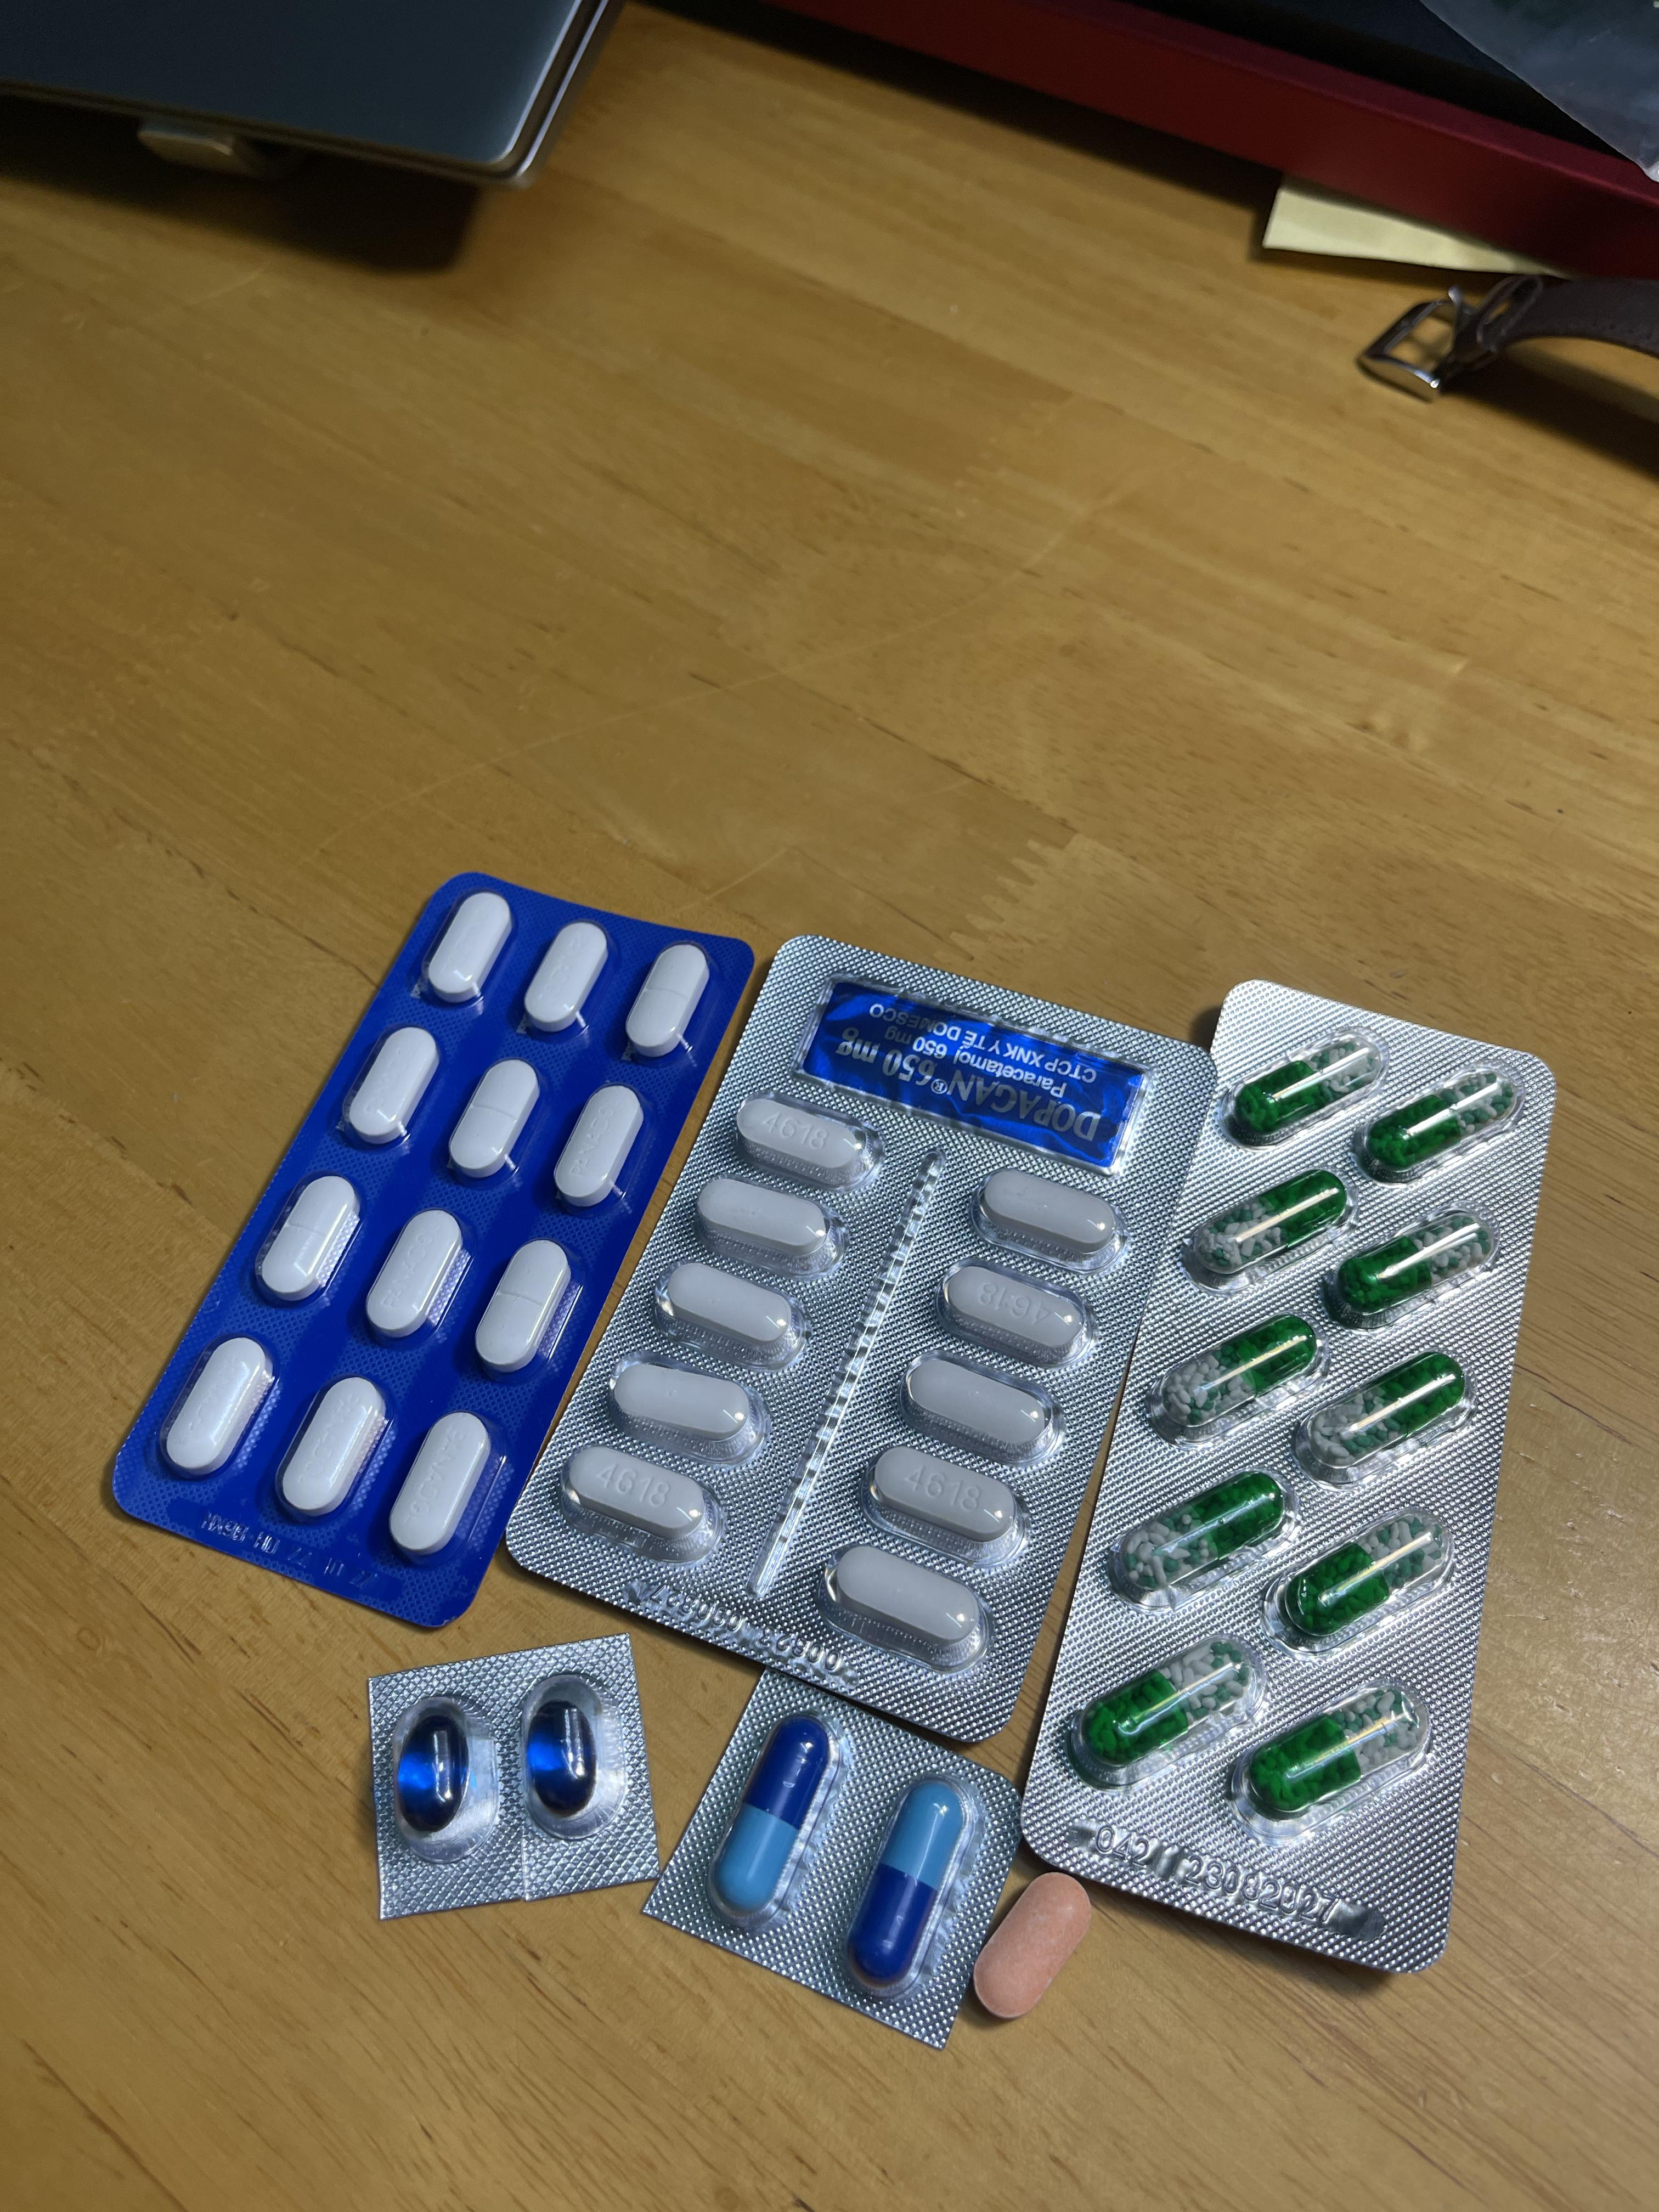Lincomyxin_500mg: (526, 1695, 599, 1813), (397, 1716, 469, 1829)
Loratadine_10mg: (969, 1872, 1091, 2020)
Paracetamol_350mg: (275, 1374, 389, 1522), (160, 1334, 274, 1480), (387, 1409, 495, 1559), (472, 1238, 575, 1376), (254, 1174, 361, 1305), (362, 1207, 465, 1341), (342, 1024, 439, 1146), (446, 1057, 540, 1181), (552, 1083, 645, 1209), (422, 892, 514, 1005), (624, 942, 711, 1061), (521, 921, 608, 1033)
Paracetamol_500mg: (828, 1541, 986, 1660), (561, 1442, 718, 1561), (899, 1352, 1060, 1465), (871, 1442, 1028, 1548), (939, 1261, 1089, 1369), (976, 1165, 1127, 1270), (605, 1359, 753, 1461), (660, 1259, 803, 1360), (732, 1094, 877, 1190), (692, 1176, 831, 1270)
Paracetamol_650mg: (1243, 1679, 1431, 1825), (1277, 1505, 1453, 1646), (1082, 1639, 1258, 1771), (1112, 1468, 1288, 1601), (1295, 1350, 1471, 1480), (1148, 1313, 1317, 1447), (1321, 1205, 1499, 1329), (1180, 1167, 1351, 1289), (1227, 1035, 1382, 1148), (1366, 1071, 1518, 1176)
pill: (849, 1775, 971, 1987), (713, 1714, 836, 1921)
